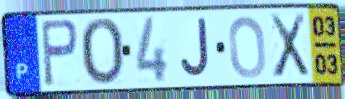4: (133, 15, 171, 86)
J: (178, 16, 212, 81)
O: (78, 16, 125, 88), (227, 14, 268, 81)
P: (39, 17, 81, 90)
X: (267, 11, 311, 81)
